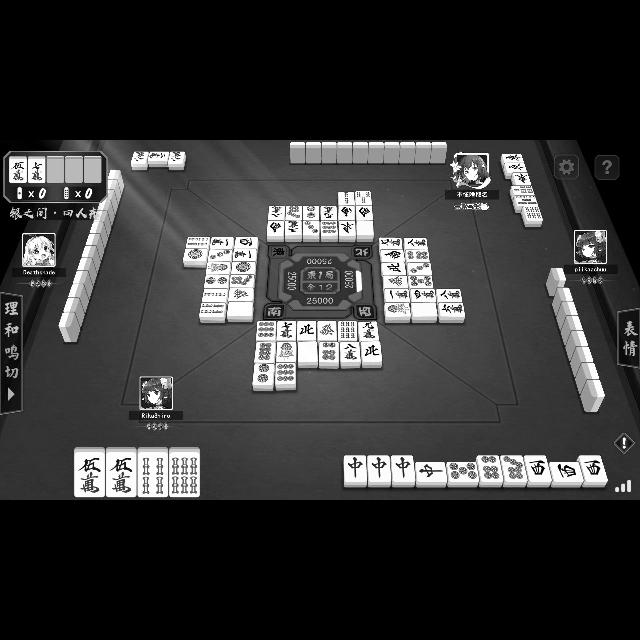1m: (384, 290, 410, 302), (233, 250, 257, 262), (210, 237, 233, 249)
1p: (182, 248, 208, 268), (232, 262, 256, 274)
1s: (384, 303, 412, 323), (277, 342, 297, 362), (206, 262, 230, 274)
2m: (147, 151, 169, 167), (130, 152, 148, 170), (168, 152, 186, 170)
2p: (253, 364, 275, 391), (204, 276, 230, 288), (303, 206, 319, 220)
2s: (202, 288, 228, 302), (338, 191, 354, 205)
3m: (286, 220, 302, 242)
3p: (302, 220, 320, 242), (406, 262, 432, 276), (210, 250, 232, 262)
3s: (356, 192, 372, 206)
4m: (410, 288, 436, 302)
4s: (138, 447, 168, 497), (200, 303, 227, 323), (186, 237, 210, 249)
5m: (74, 447, 106, 497), (105, 447, 136, 497), (10, 156, 26, 182)
5p: (446, 461, 479, 487), (408, 276, 434, 288)
5s: (513, 196, 539, 206)
6m: (438, 303, 466, 323)
6p: (476, 455, 504, 487), (318, 342, 339, 368), (406, 250, 430, 262)
6s: (170, 447, 200, 497), (522, 206, 542, 228)
7m: (28, 157, 46, 183), (278, 321, 296, 341)
7p: (500, 455, 528, 487), (230, 276, 254, 288), (286, 206, 302, 220)
7s: (510, 185, 534, 195)
8m: (340, 342, 360, 368), (436, 288, 462, 302), (404, 238, 428, 250), (269, 206, 285, 220)
8p: (254, 342, 276, 363)
9m: (358, 321, 379, 341), (379, 238, 403, 250), (321, 206, 337, 220)
9p: (276, 364, 296, 390), (258, 321, 276, 341), (320, 222, 338, 242)
9s: (338, 321, 358, 342)
chun: (415, 462, 447, 488), (391, 455, 415, 487), (344, 455, 366, 487), (368, 456, 390, 488)
haku: (410, 303, 438, 323), (298, 342, 318, 368), (228, 302, 254, 322), (356, 220, 374, 242)
hatsu: (318, 321, 338, 341), (230, 288, 254, 302), (384, 276, 408, 288)
nan: (268, 222, 284, 242), (380, 250, 406, 262), (338, 206, 356, 220), (356, 206, 372, 220)
pe: (362, 342, 382, 368), (298, 320, 316, 340), (380, 263, 406, 275)
sha: (580, 456, 608, 488), (524, 456, 552, 486), (550, 461, 582, 487), (235, 237, 259, 249)
tou: (338, 222, 356, 242), (511, 173, 531, 185), (501, 154, 525, 162), (503, 164, 527, 172)
